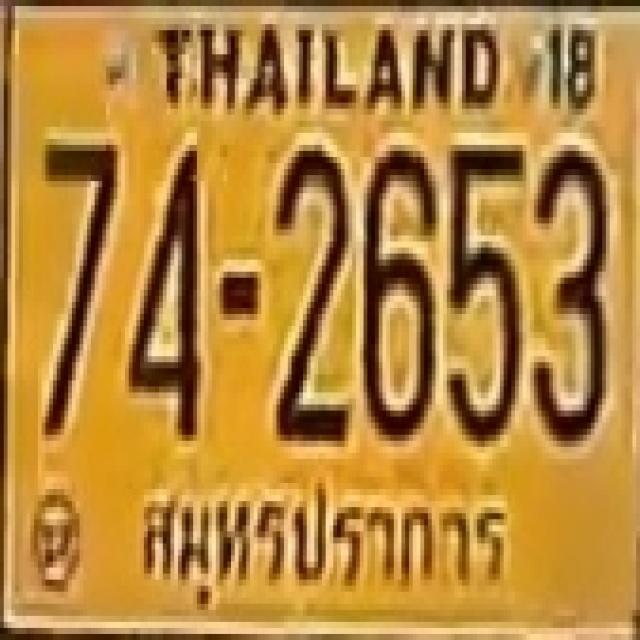2: (272, 145, 344, 441)
3: (530, 145, 606, 441)
4: (125, 142, 197, 432)
5: (443, 136, 523, 438)
6: (360, 145, 435, 435)
7: (42, 136, 114, 432)
SPK: (128, 462, 517, 628)
